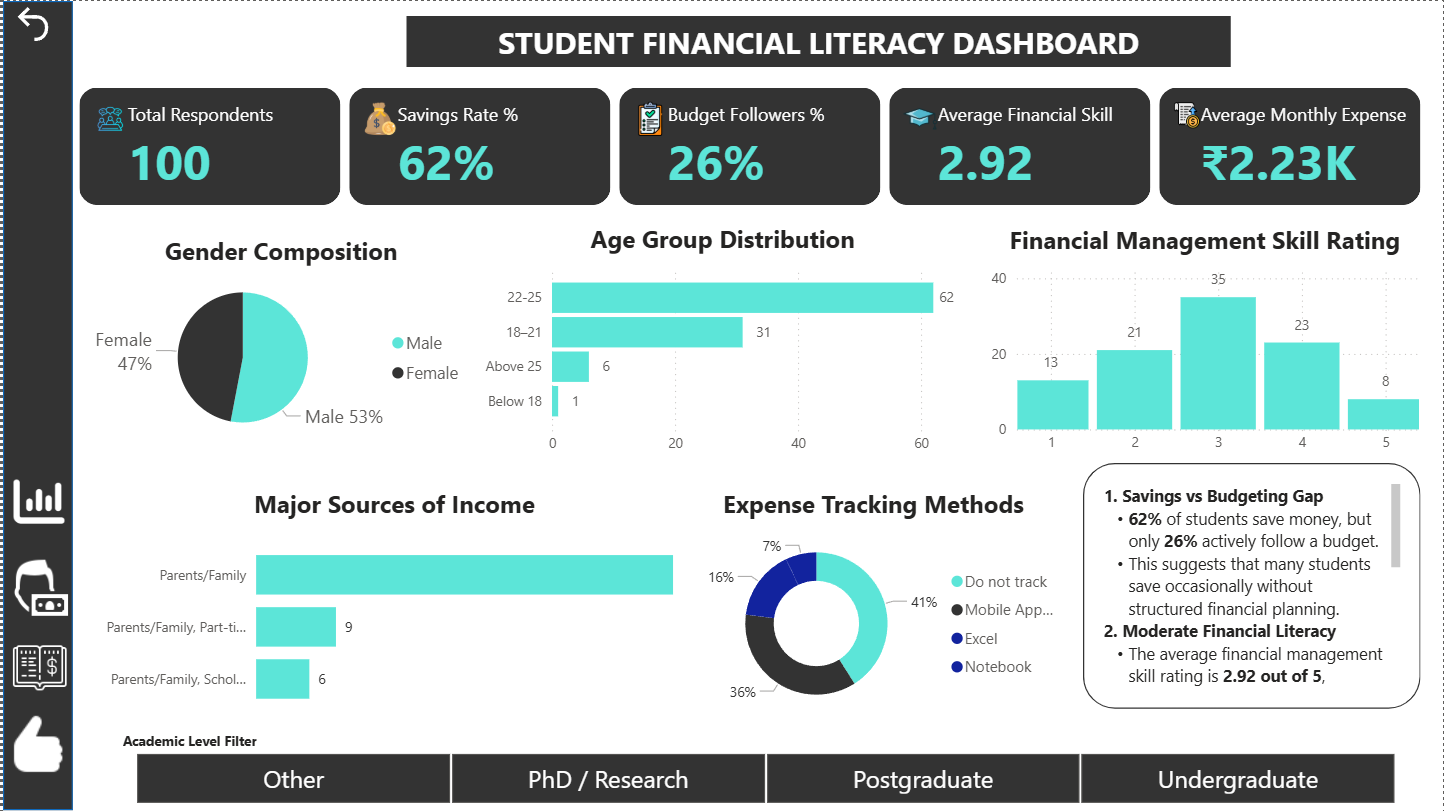

This screenshot's page, from the dashboard's own definition file:
{"tool":"powerbi","page":{"name":"Overview Dashboard","canvas":[1280,720],"ordinal":1},"visuals":[{"type":"cardVisual","fields":{"Data":["Table.Total Respondents","Table.Savings Rate %","Table.Budget Followers %","Avg(Student_Data.Rate your financial management skill)","Measure.Average Monthly Expense"]},"box":[51.1,59.4,1228.9,138.6],"z":0},{"type":"pieChart","title":"Gender Composition","fields":{"Category":["Student_Data.Gender"],"Y":["CountNonNull(Student_Data.Gender)"]},"box":[75.8,206.8,342.6,191.1],"z":1000},{"type":"clusteredBarChart","title":"Age Group Distribution","fields":{"Y":["CountNonNull(Student_Data.Age)"],"Category":["Student_Data.Age"]},"box":[418.4,195.8,442.1,214.7],"z":2000},{"type":"barChart","title":"Major Sources of Income","fields":{"Category":["Student_Data.Main Source of Income"],"Y":["CountNonNull(Student_Data.Index)"]},"box":[75,431.7,546.7,213.3],"z":3000},{"type":"shape","box":[960,410,300,218.3],"z":4000},{"type":"shape","box":[0,0,62.1,719.2],"z":5000},{"type":"textbox","box":[358.9,13.6,732.9,45.4],"z":6000},{"type":"clusteredColumnChart","title":"Financial Management Skill Rating","fields":{"Category":["Student_Data.Rate your financial management skill"],"Y":["CountNonNull(Student_Data.Rate your financial management skill)"]},"box":[873.2,197.4,390,213.2],"z":7000},{"type":"donutChart","title":"Expense Tracking Methods","fields":{"Category":["Student_Data.How do you track expenses?"],"Y":["CountNonNull(Student_Data.How do you track expenses?)"]},"box":[598.3,431.7,350,213.3],"z":8000},{"type":"slicer","fields":{"Values":["Student_Data.Course / Program"]},"box":[93.9,643.5,1167.5,75.7],"z":9000},{"type":"textbox","box":[973.3,425.3,273.3,189.3],"z":10000},{"type":"actionButton","box":[6.5,0,48.7,40.6],"z":11000},{"type":"image","box":[4.9,488.2,56.1,67.6],"z":12000},{"type":"image","box":[8.2,564.1,49.5,56.1],"z":13000},{"type":"image","box":[1.6,425.6,61,39.6],"z":14000},{"type":"image","box":[0,621.9,61,79.2],"z":15000}]}

Visuals, with their boxes on the page's 1280x720 design canvas (x1, y1, x2, y2). These are canvas units, not pixel positions in the 1444x811 screenshot, which may show the page scaled, cropped or inside an application window:
cardVisual - Table.Total Respondents x Table.Savings Rate %: [51, 59, 1280, 198]
"Gender Composition" pieChart: [76, 207, 418, 398]
"Age Group Distribution" clusteredBarChart: [418, 196, 860, 410]
"Major Sources of Income" barChart: [75, 432, 622, 645]
shape: [960, 410, 1260, 628]
shape: [0, 0, 62, 719]
textbox: [359, 14, 1092, 59]
"Financial Management Skill Rating" clusteredColumnChart: [873, 197, 1263, 411]
"Expense Tracking Methods" donutChart: [598, 432, 948, 645]
slicer - Student_Data.Course / Program: [94, 644, 1261, 719]
textbox: [973, 425, 1247, 615]
actionButton: [6, 0, 55, 41]
image: [5, 488, 61, 556]
image: [8, 564, 58, 620]
image: [2, 426, 63, 465]
image: [0, 622, 61, 701]
